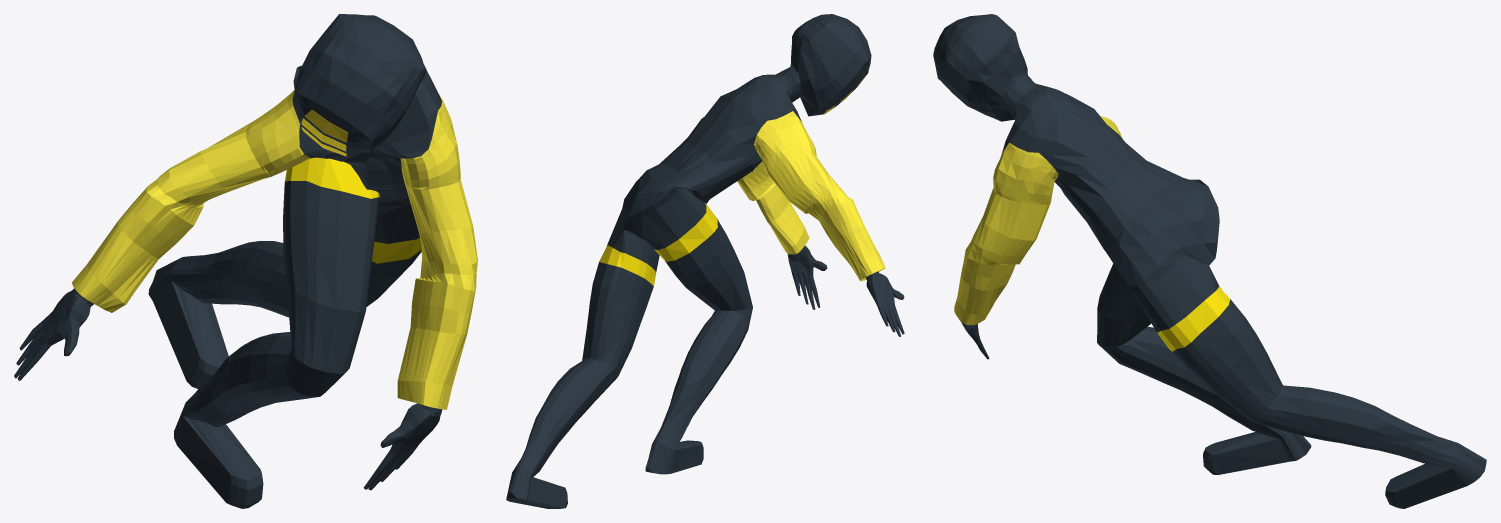
File: Sentry_Die_000008.obj
3 views of the same model, side by side, from view 1: azimuth 30°, elevation 25°; view 2: azimuth 150°, elevation 25°; view 3: azimuth 270°, elevation 25° (orthographic). The views are drawn at different scales.
Parts seen in each view (by area): view 1: Cube; view 2: Cube; view 3: Cube.
Boxes of the visible parts, left/top/right/bottom form: Cube: left=14, top=14, right=477, bottom=508; Cube: left=506, top=14, right=904, bottom=508; Cube: left=933, top=14, right=1486, bottom=508.
Bounding box in the file's own units: 1.94 × 2.54 × 2.91.
